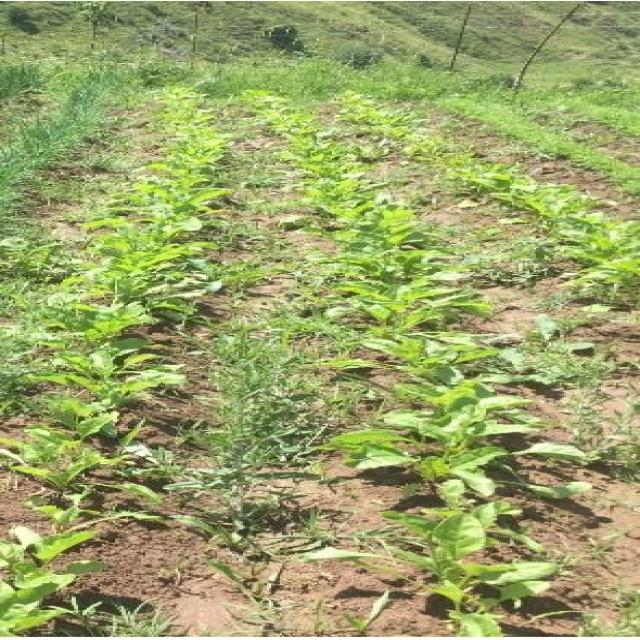row: (56, 95, 413, 638), (296, 96, 640, 640), (0, 84, 165, 426), (376, 98, 640, 229), (0, 75, 79, 159)
